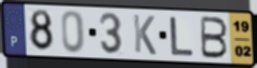0: (59, 9, 86, 55)
3: (98, 11, 125, 56)
8: (27, 8, 55, 53)
B: (199, 15, 229, 60)
K: (131, 13, 158, 57)
L: (169, 16, 196, 57)
